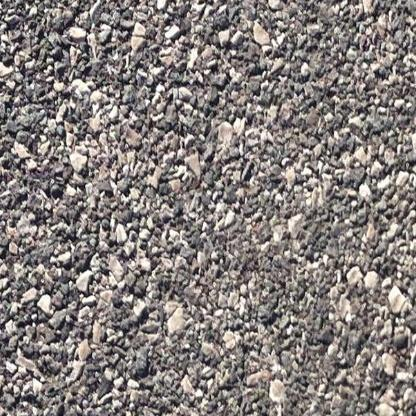Cracks: (393, 402, 416, 416)
